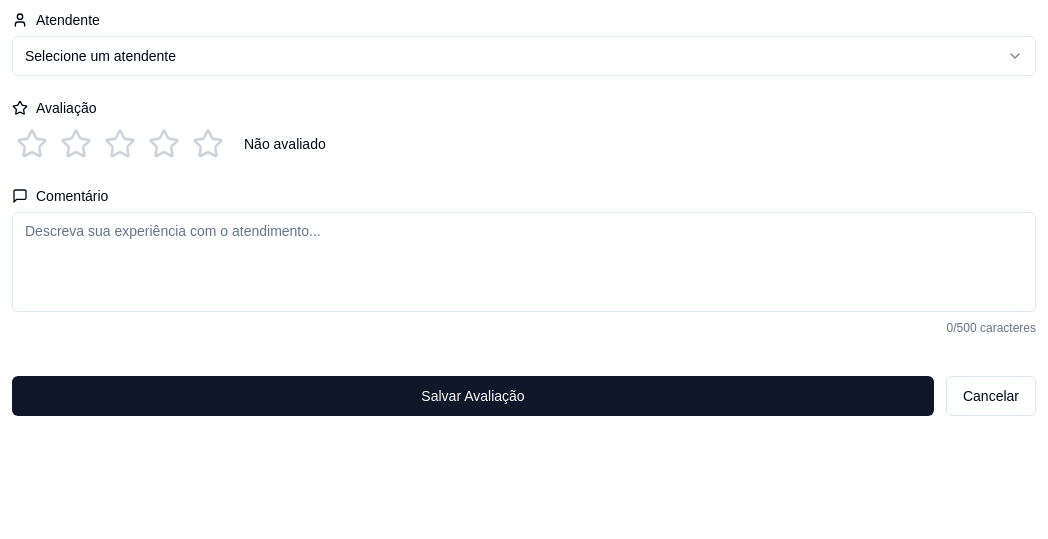
EvaluationForm › deve permitir selecionar avaliação por estrelas
This screenshot has width=1048, height=539.
Clicar na terceira estrela (nota 3)
Click the 3rd button. click: (120,144)
box: x1=100 y1=124 x2=140 y2=164
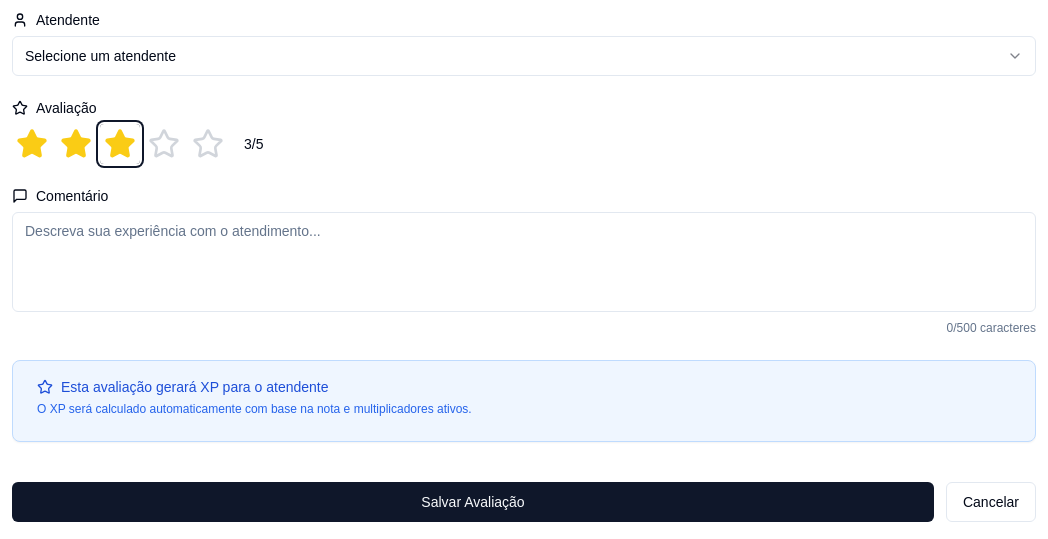
Now the text "3/5" is shown, box x1=244 y1=134 x2=264 y2=154
